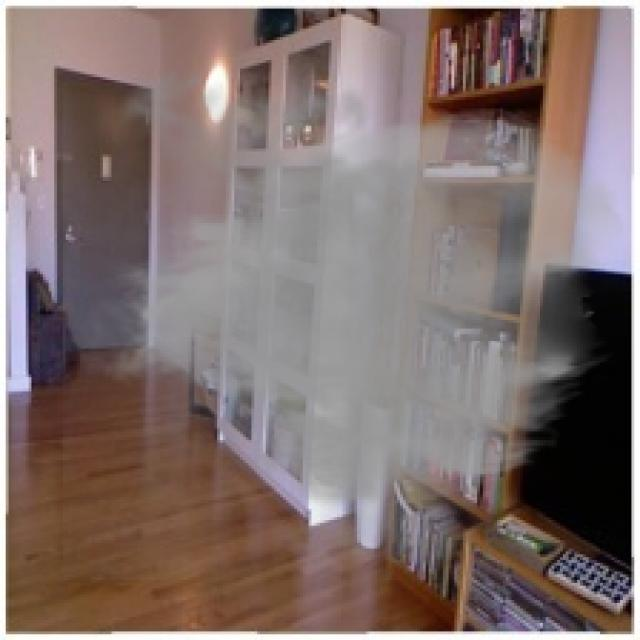smoke: (63, 51, 628, 580)
